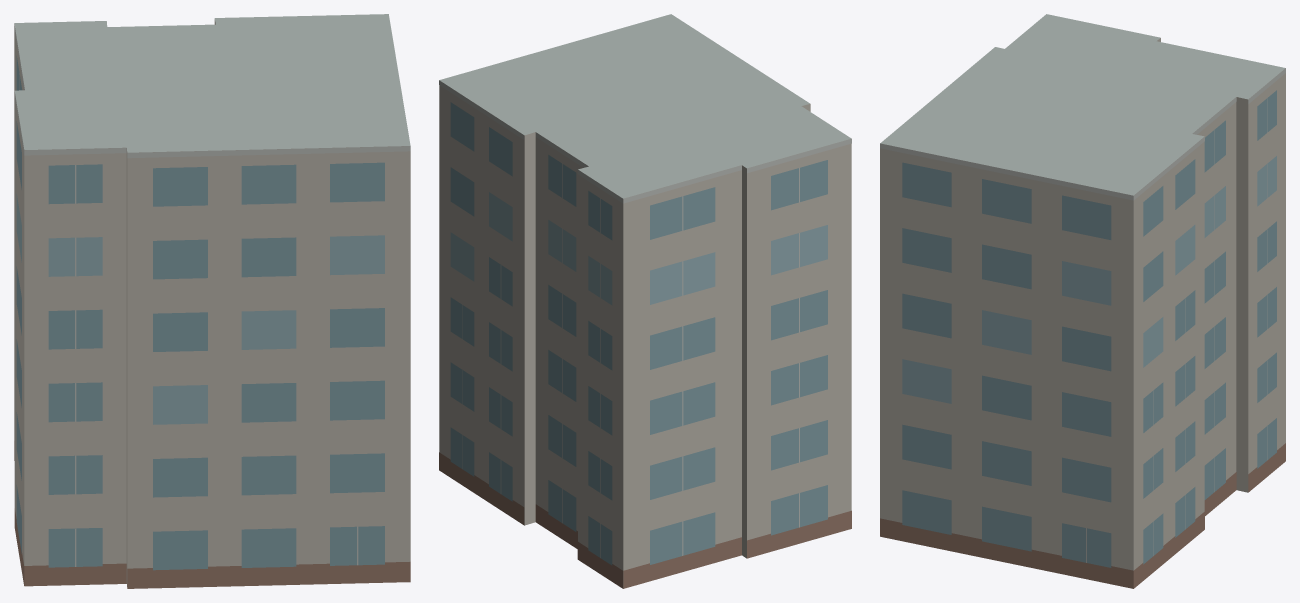
The model's file is survey-upis-32884396.glb.
3 renders of one model, left to right at view 1: azimuth 30°, elevation 25°; view 2: azimuth 150°, elevation 25°; view 3: azimuth 270°, elevation 25°, orthographic. The views are drawn at different scales.
Parts seen in each view (by area): view 1: survey-upis-32884396.tmp; view 2: survey-upis-32884396.tmp; view 3: survey-upis-32884396.tmp.
Boxes of the visible parts, x1,y1,x2,y2 form: survey-upis-32884396.tmp: [14, 14, 410, 588]; survey-upis-32884396.tmp: [439, 14, 851, 588]; survey-upis-32884396.tmp: [880, 14, 1285, 588].
Size of the model in its own units: 19.13 by 19.3 by 18.05.
